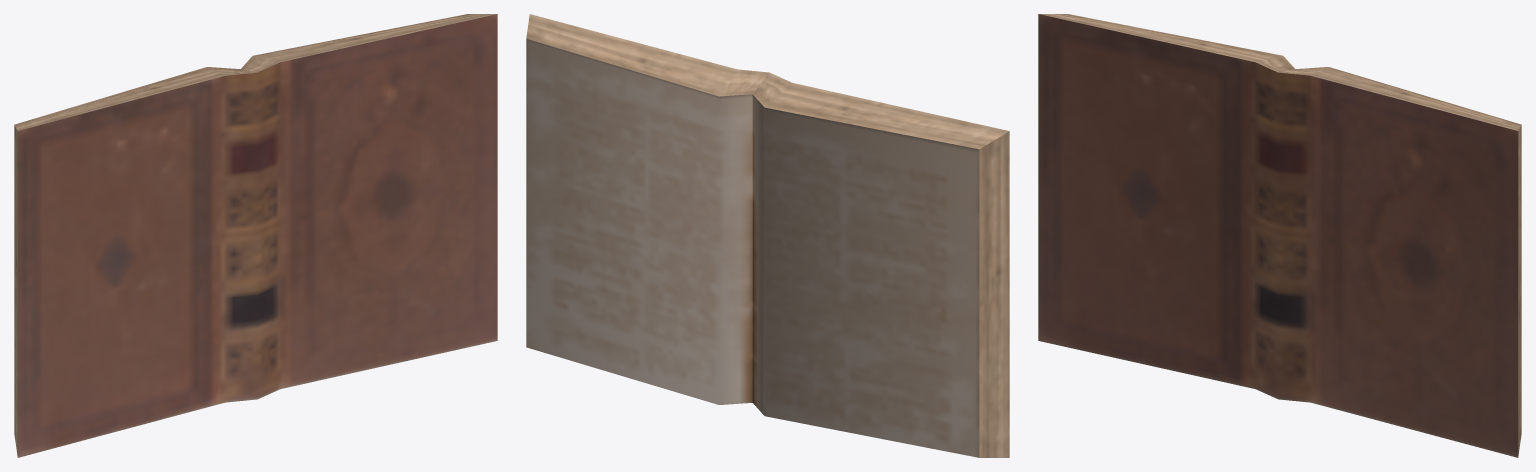
Rendered from Book_Open_A.fbx.
3 renders of one model, left to right at view 1: azimuth 30°, elevation 25°; view 2: azimuth 150°, elevation 25°; view 3: azimuth 330°, elevation 25°, orthographic.
Parts seen in each view (by area): view 1: Book_Open_A; view 2: Book_Open_A; view 3: Book_Open_A.
Boxes of the visible parts, x1,y1,x2,y2 form: Book_Open_A: [14, 14, 497, 457]; Book_Open_A: [526, 14, 1009, 457]; Book_Open_A: [1038, 14, 1521, 457].
Bounding box in the file's own units: 0.7385 × 0.4806 × 0.0742.
